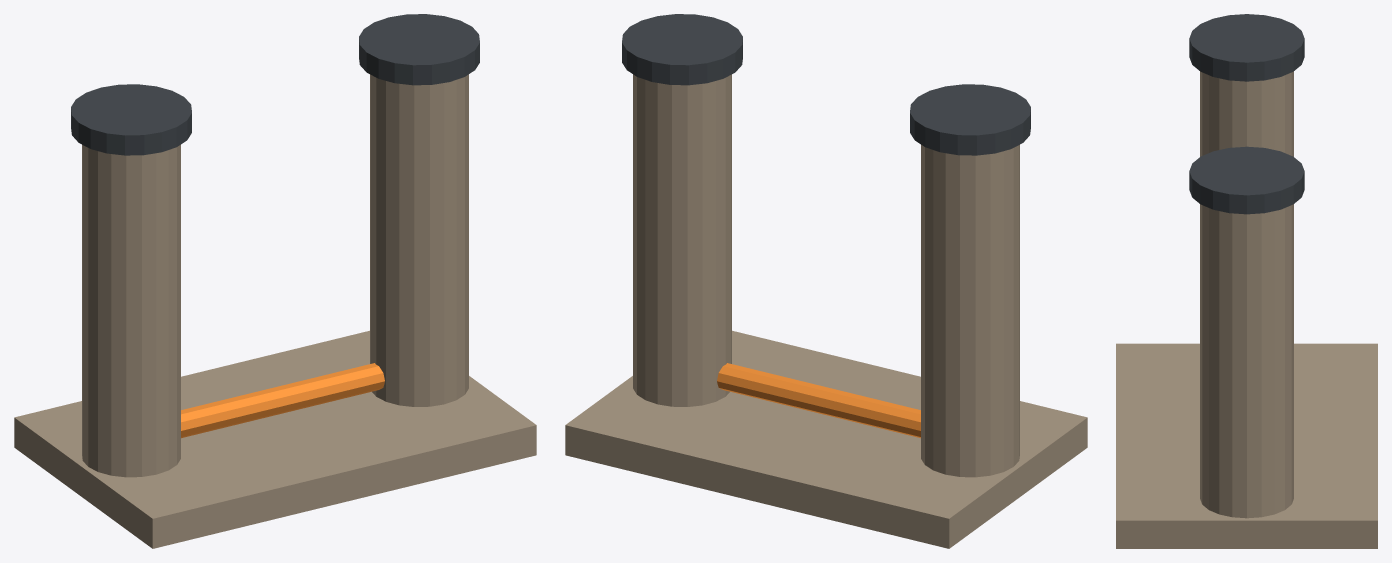
The model's file is stock-car-oval-speedway-pit-jack-9365c1c7__16945.glb.
3 renders of one model, left to right at view 1: azimuth 30°, elevation 25°; view 2: azimuth 150°, elevation 25°; view 3: azimuth 270°, elevation 25°, orthographic. The views are drawn at different scales.
Parts seen in each view (by area): view 1: pit-jack; view 2: pit-jack; view 3: pit-jack.
Boxes of the visible parts, box(x1,y1,x2,y2) form: pit-jack: box(14, 14, 536, 548); pit-jack: box(565, 14, 1087, 548); pit-jack: box(1116, 14, 1377, 548).
Bounding box in the file's own units: 0.82 × 0.75 × 0.5.
